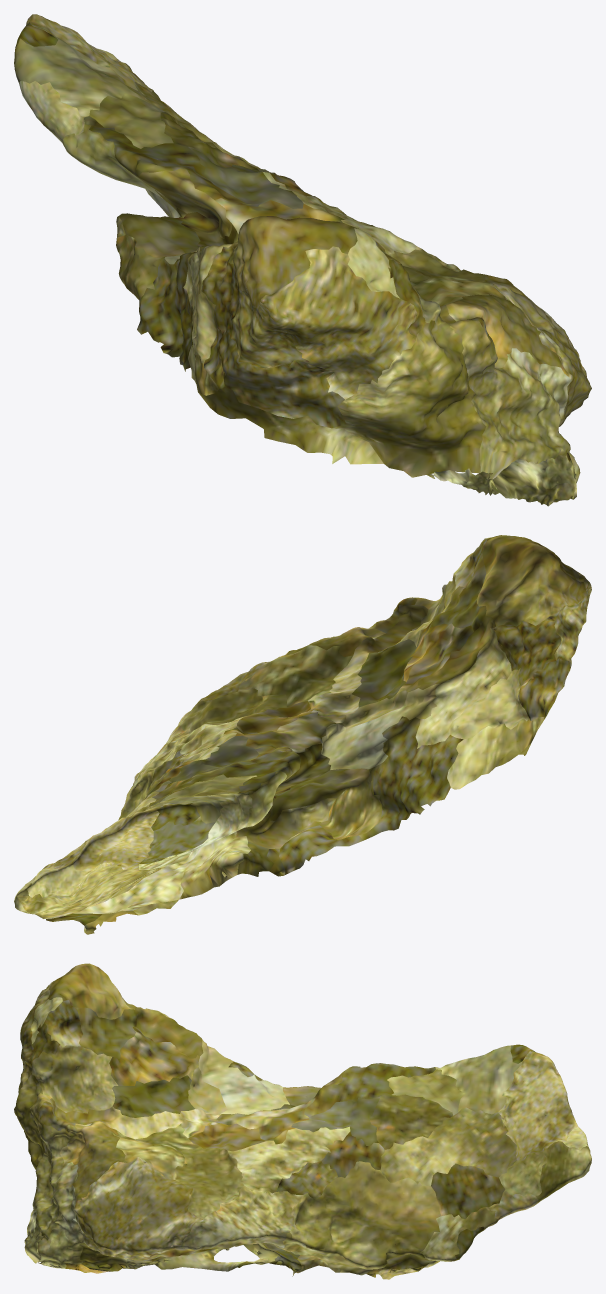
Rendered from BacuAzuf.glb.
3 views of the same model, one above another, from view 1: azimuth 30°, elevation 25°; view 2: azimuth 150°, elevation 25°; view 3: azimuth 270°, elevation 25° (orthographic). The views are drawn at different scales.
Visible parts, largest first — view 1: Meteorito.002; view 2: Meteorito.002; view 3: Meteorito.002.
Boxes of the visible parts, x1,y1,x2,y2 form: Meteorito.002: [14, 14, 591, 506]; Meteorito.002: [14, 535, 591, 934]; Meteorito.002: [14, 963, 591, 1279].
Bounding box in the file's own units: 0.4613 × 0.3706 × 0.8861.
3 materials, 3 textured.
